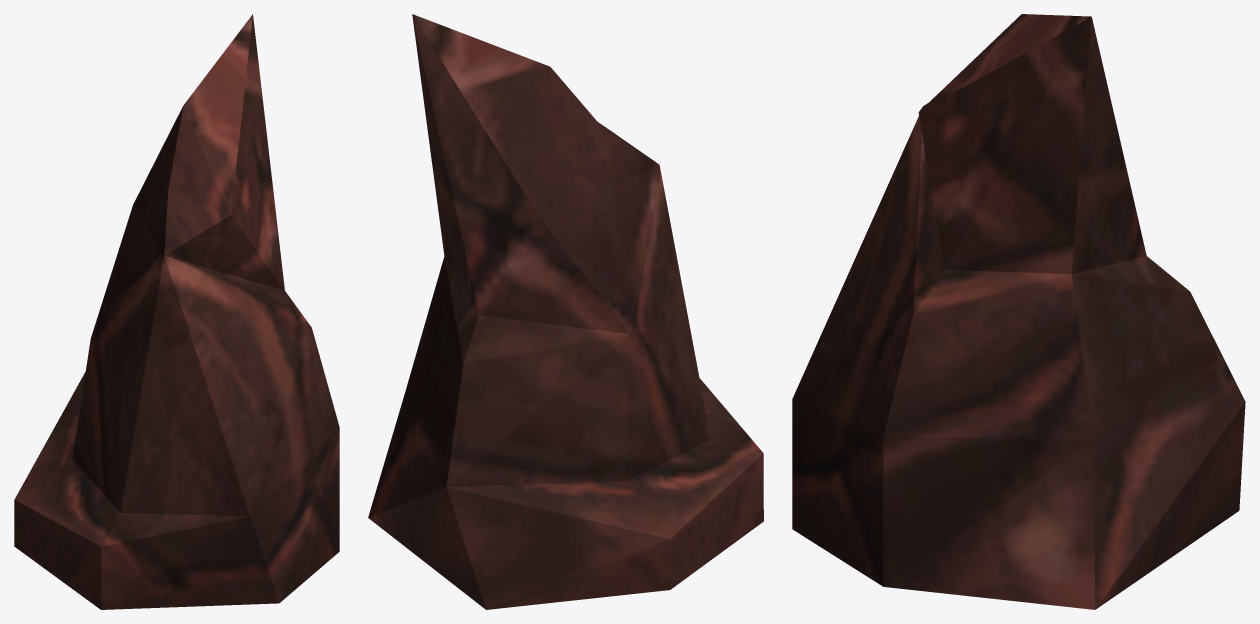
File: stalacmite_small03.fbx
The picture shows the model from 3 angles, left to right: view 1: azimuth 30°, elevation 25°; view 2: azimuth 150°, elevation 25°; view 3: azimuth 270°, elevation 25°; orthographic projection. The views are drawn at different scales.
Visible parts, largest first — view 1: obj0.014; view 2: obj0.014; view 3: obj0.014.
Part boxes in pixels (left/top/right/bottom): obj0.014: left=14, top=14, right=339, bottom=609; obj0.014: left=368, top=14, right=763, bottom=609; obj0.014: left=792, top=14, right=1245, bottom=609.
Size of the model in its own units: 0.9995 by 1.63 by 1.17.
